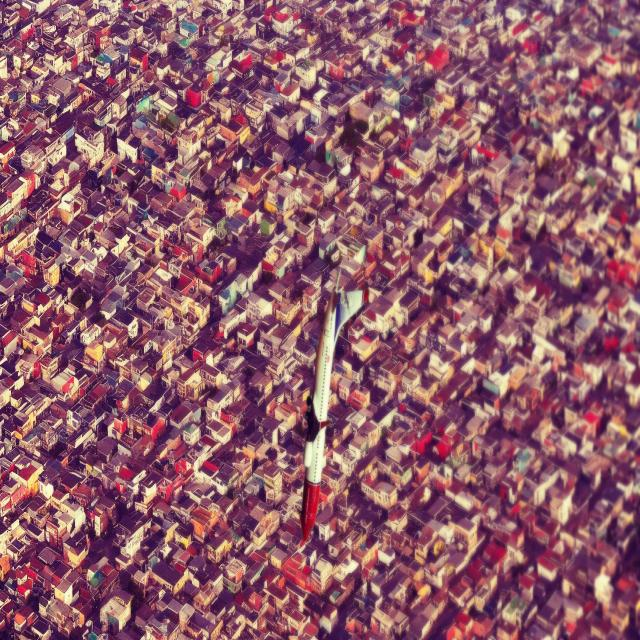airplane: (297, 262, 370, 543)
